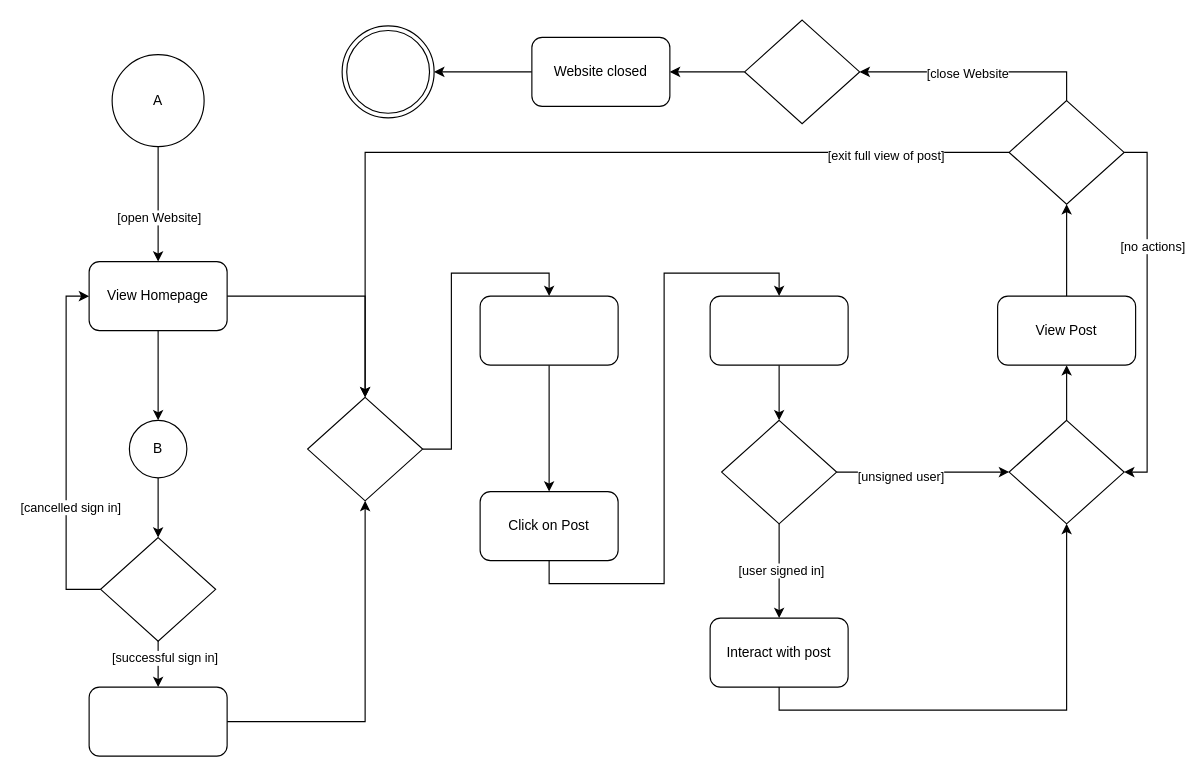
Some shapes in this 1204 by 776 pixel diagram are drawn without their labels. The centre of each missing label's shape, as x and y in pixels:
Browse Site: [548,330]
See post in full view: [778,330]
show Feed: [157,721]
